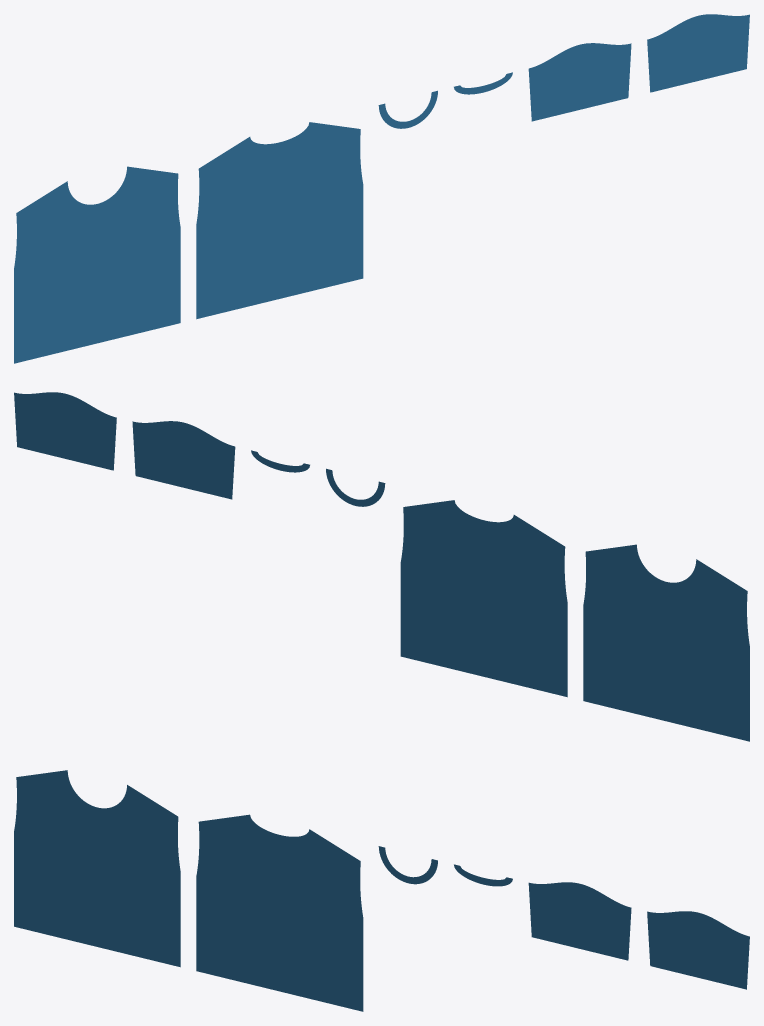
File: camiseta-corta-boxy-algodon-talla-XS.glb
3 renders of one model, top to bottom at view 1: azimuth 30°, elevation 25°; view 2: azimuth 150°, elevation 25°; view 3: azimuth 330°, elevation 25°, orthographic.
Visible parts, largest first — view 1: patron-espalda, patron-delantero, patron-manga-izq, patron-manga-der, patron-cuello-delantero; view 2: patron-espalda, patron-delantero, patron-manga-izq, patron-manga-der, patron-cuello-delantero; view 3: patron-espalda, patron-delantero, patron-manga-izq, patron-manga-der, patron-cuello-delantero, patron-cuello-espalda.
Part boxes in pixels (x1=…): patron-espalda: x1=196, y1=122, x2=363, y2=319; patron-delantero: x1=14, y1=166, x2=180, y2=363; patron-manga-izq: x1=528, y1=43, x2=631, y2=121; patron-manga-der: x1=647, y1=14, x2=749, y2=92; patron-cuello-delantero: x1=378, y1=90, x2=437, y2=128; patron-espalda: x1=400, y1=500, x2=567, y2=697; patron-delantero: x1=583, y1=544, x2=749, y2=741; patron-manga-izq: x1=132, y1=421, x2=235, y2=499; patron-manga-der: x1=14, y1=392, x2=116, y2=470; patron-cuello-delantero: x1=326, y1=468, x2=385, y2=506; patron-espalda: x1=196, y1=814, x2=363, y2=1011; patron-delantero: x1=14, y1=770, x2=180, y2=967; patron-manga-izq: x1=528, y1=882, x2=631, y2=960; patron-manga-der: x1=647, y1=911, x2=749, y2=989; patron-cuello-delantero: x1=378, y1=846, x2=437, y2=884; patron-cuello-espalda: x1=454, y1=864, x2=512, y2=886.
Bounding box in the file's own units: 2.36 × 0.555 × 0.
